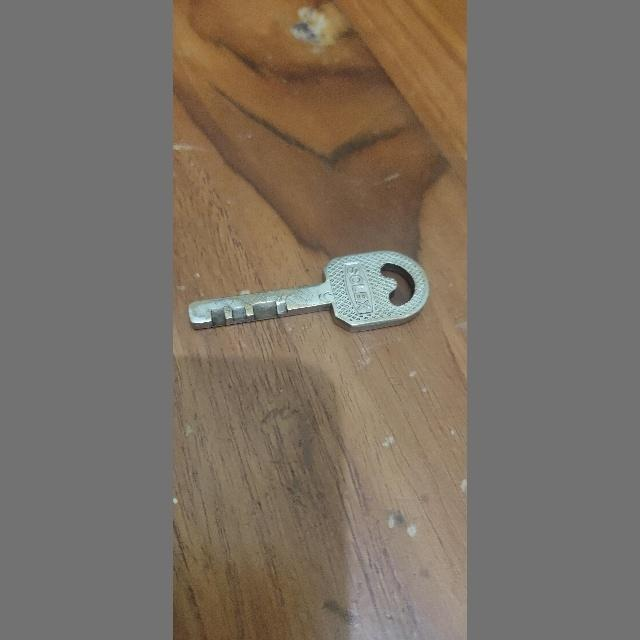Keys: (184, 236, 436, 352)
